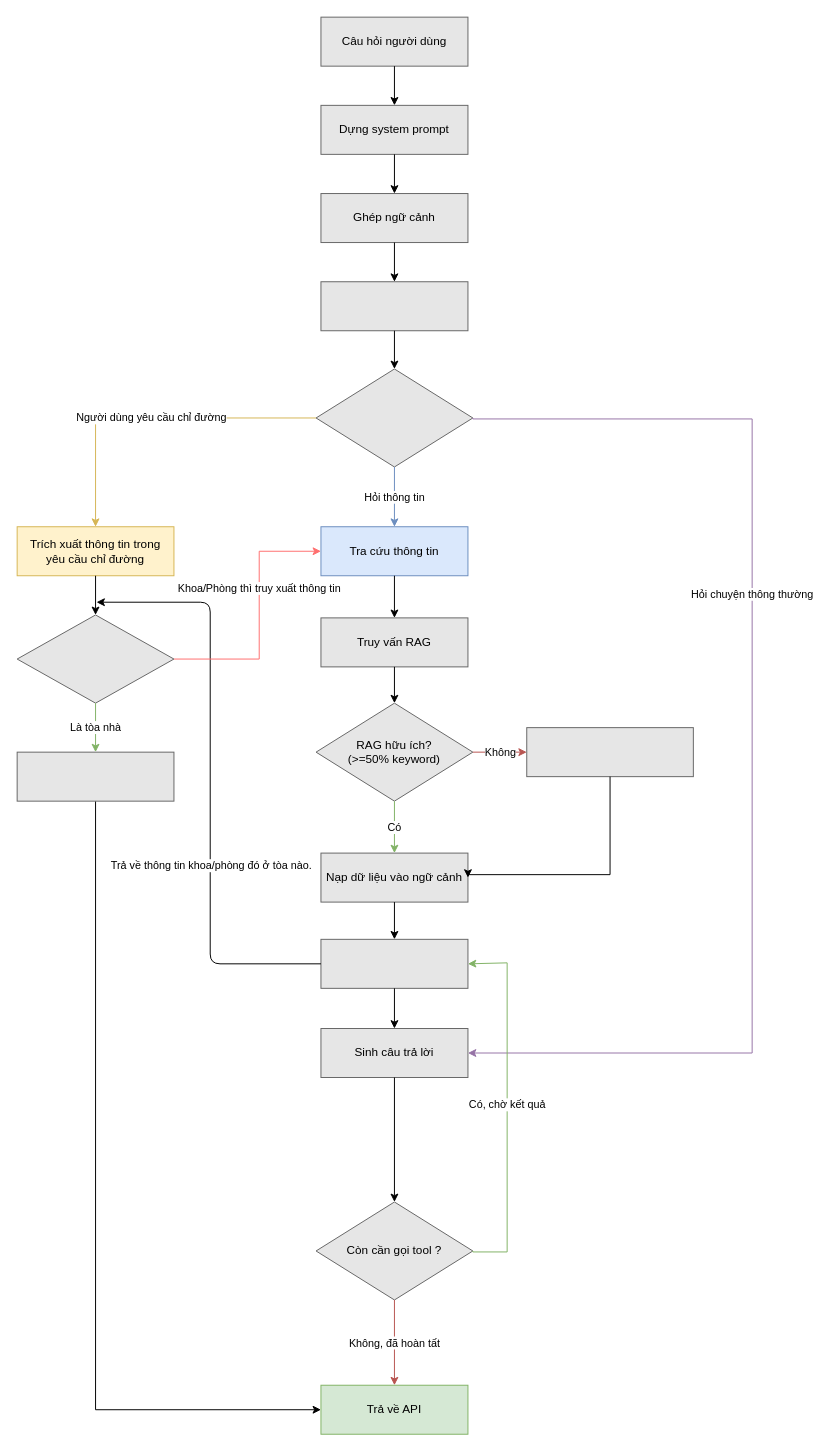
Image size: 830x1451. Some labels were removed from this diagram. Each missing label, with the centre of its shape:
"Gửi cho LLM" belongs at point (394, 306).
"Kiểm tra xem yêu cầu có phải tòa nhà ?" belongs at point (95, 658).
"Kích hoạt tools thay đổi kiểu trả về" belongs at point (95, 776).
"LLM quyết định" belongs at point (394, 417).
"LLM xử lý lần hai" belongs at point (394, 963).
"Tìm kiếm thông tin trên Internet" belongs at point (609, 752).
